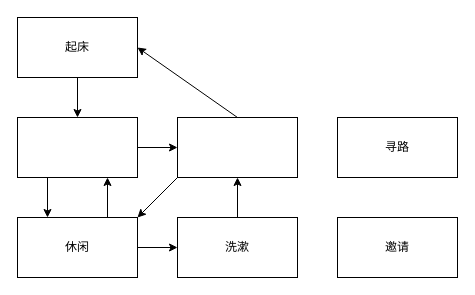
This 475x295 diagram has some shape labels left out. The box of each missing label's shape, as (x1, y1, x2, y2) in pixels:
睡觉: (176, 116, 298, 178)
进食: (16, 116, 138, 178)
